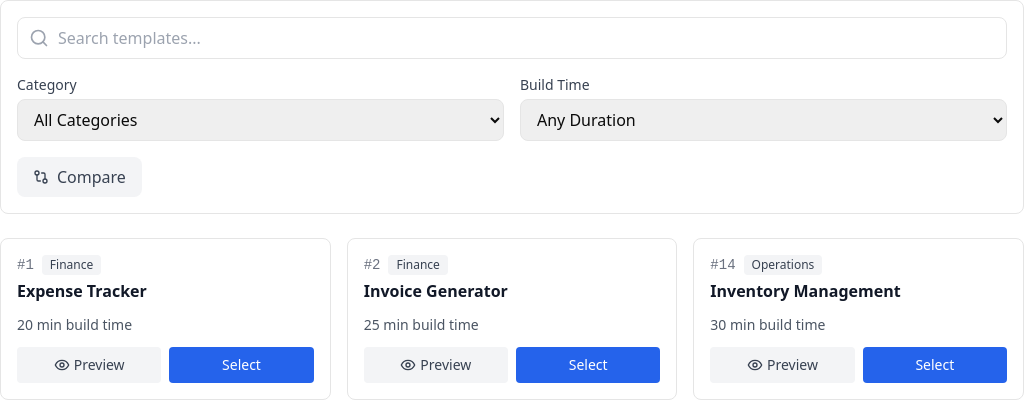
Scenario: TemplateSelector › Search and Filter › should filter templates by name
In the field with placeholder "Search templates...": (512, 38) x1=17 y1=17 x2=1007 y2=59, type "invoice"
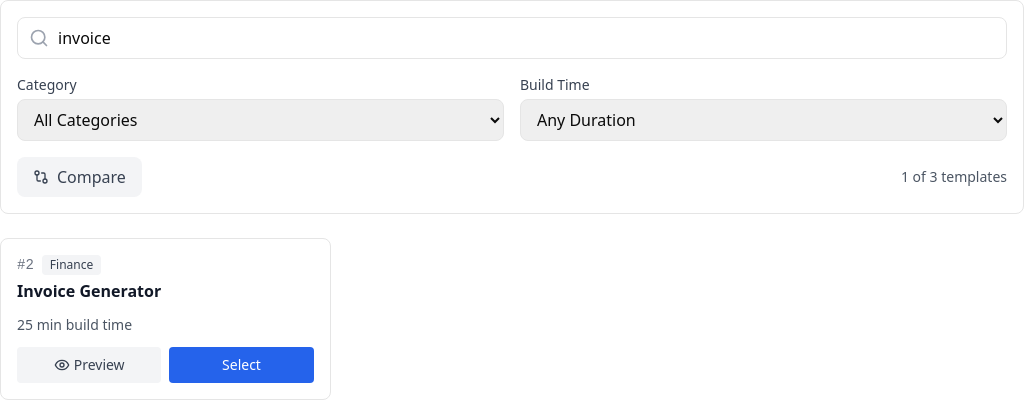
Expected: the heading "Invoice Generator" is shown, x1=17 y1=280 x2=161 y2=302
Now the heading "Expense Tracker" is gone
